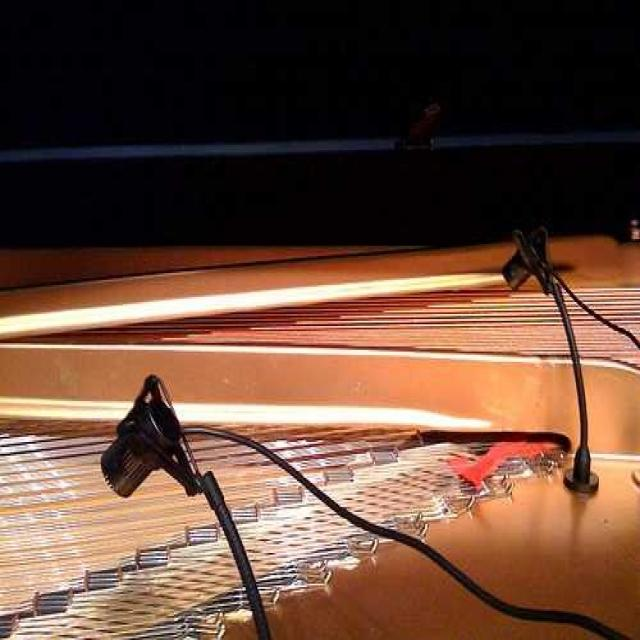microphone: (98, 388, 188, 516), (502, 229, 552, 297)
